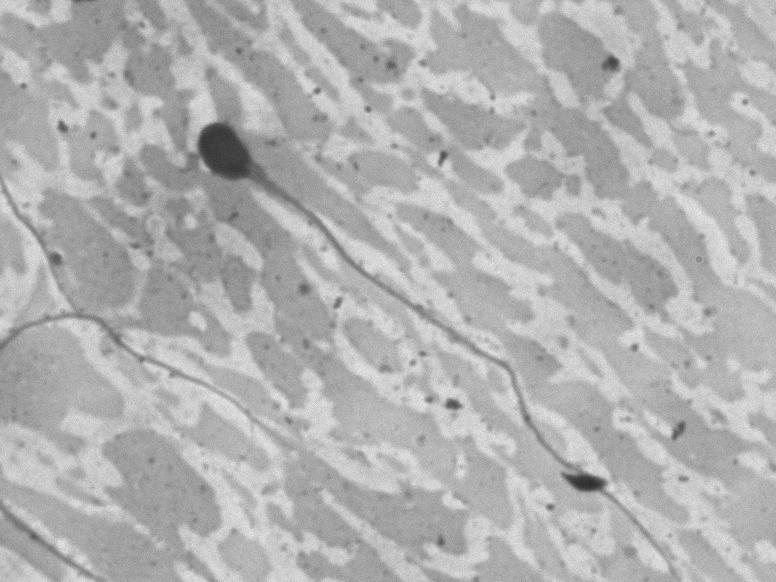Abnormal: (178, 99, 677, 564)
